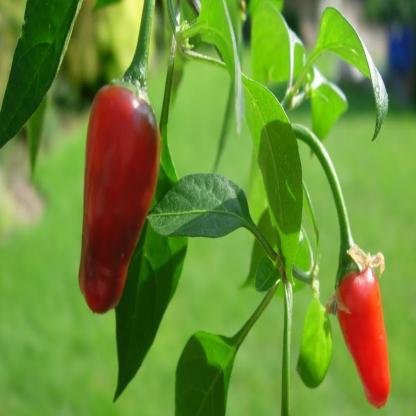--: (286, 111, 396, 414), (75, 1, 164, 323)
